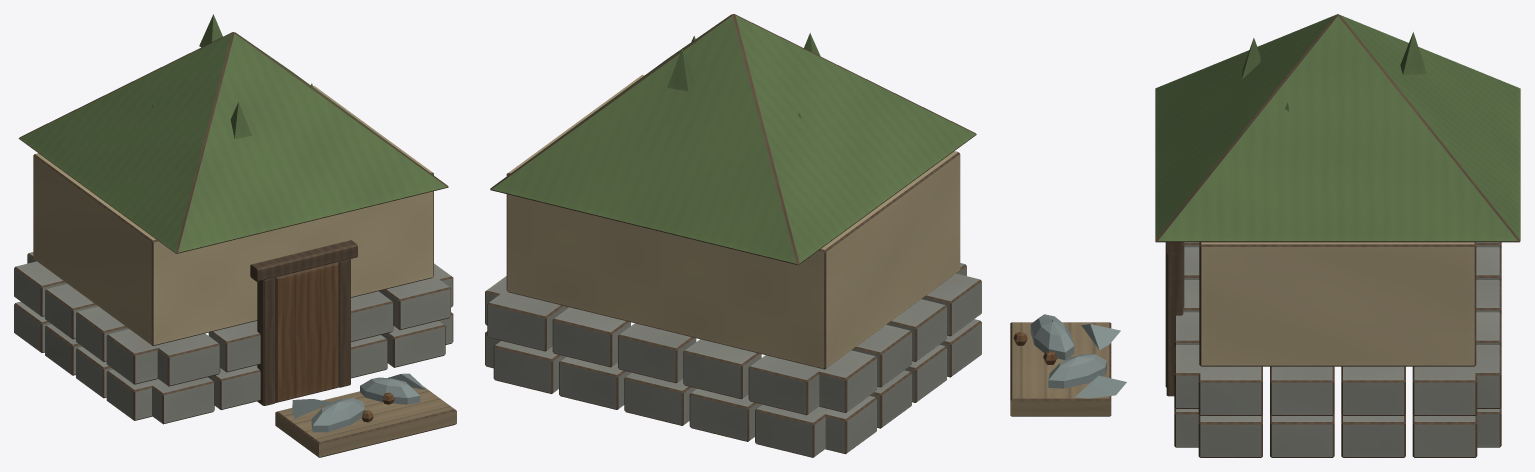
Rendered from turf-roof-on-stone.glb.
The picture shows the model from 3 angles, left to right: view 1: azimuth 30°, elevation 25°; view 2: azimuth 150°, elevation 25°; view 3: azimuth 270°, elevation 25°; orthographic projection. The views are drawn at different scales.
Parts seen in each view (by area): view 1: turf-roof-on-stone; view 2: turf-roof-on-stone; view 3: turf-roof-on-stone.
Part boxes in pixels (x1,y1,x2,y2): turf-roof-on-stone: (14,14,456,457); turf-roof-on-stone: (485,14,981,457); turf-roof-on-stone: (1010,14,1520,457).
Size of the model in its own units: 0.51 by 0.47 by 0.6092.
1 material, 1 textured.
